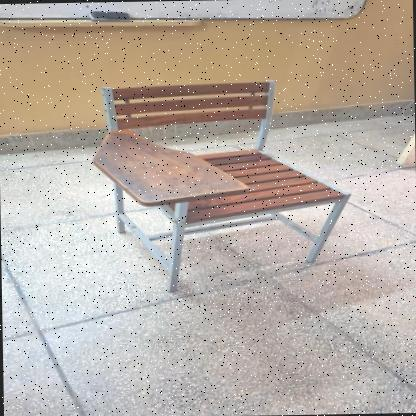chair: (91, 71, 358, 298)
